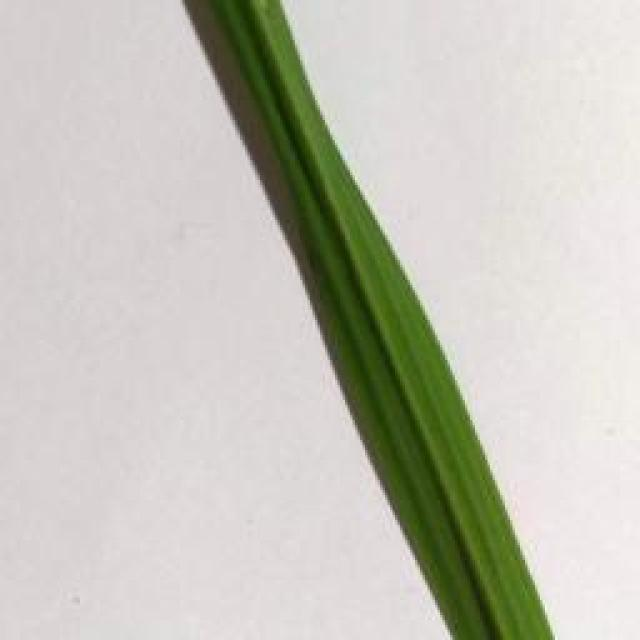Healthy-Plant: (375, 489, 559, 640), (336, 378, 517, 505), (302, 274, 476, 396), (267, 182, 423, 284), (230, 86, 375, 194), (192, 0, 322, 97)
